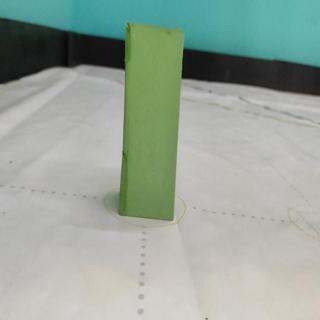greenbox: (120, 21, 186, 224)
